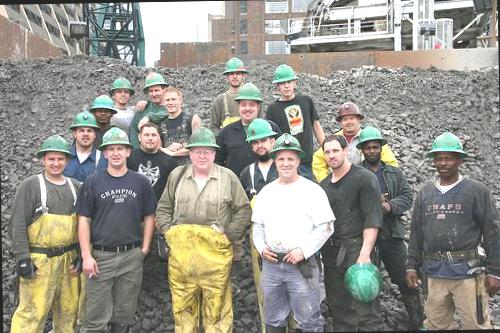person: (155, 123, 254, 333), (403, 125, 500, 329), (248, 129, 330, 330), (81, 125, 156, 333), (6, 136, 82, 333), (314, 133, 386, 331), (355, 123, 421, 328), (313, 102, 396, 184), (259, 59, 320, 146), (230, 118, 296, 195), (214, 86, 277, 160), (204, 56, 260, 125), (124, 123, 178, 193), (56, 112, 107, 185), (152, 87, 198, 146), (135, 70, 171, 121), (102, 76, 138, 126), (84, 91, 118, 142)
